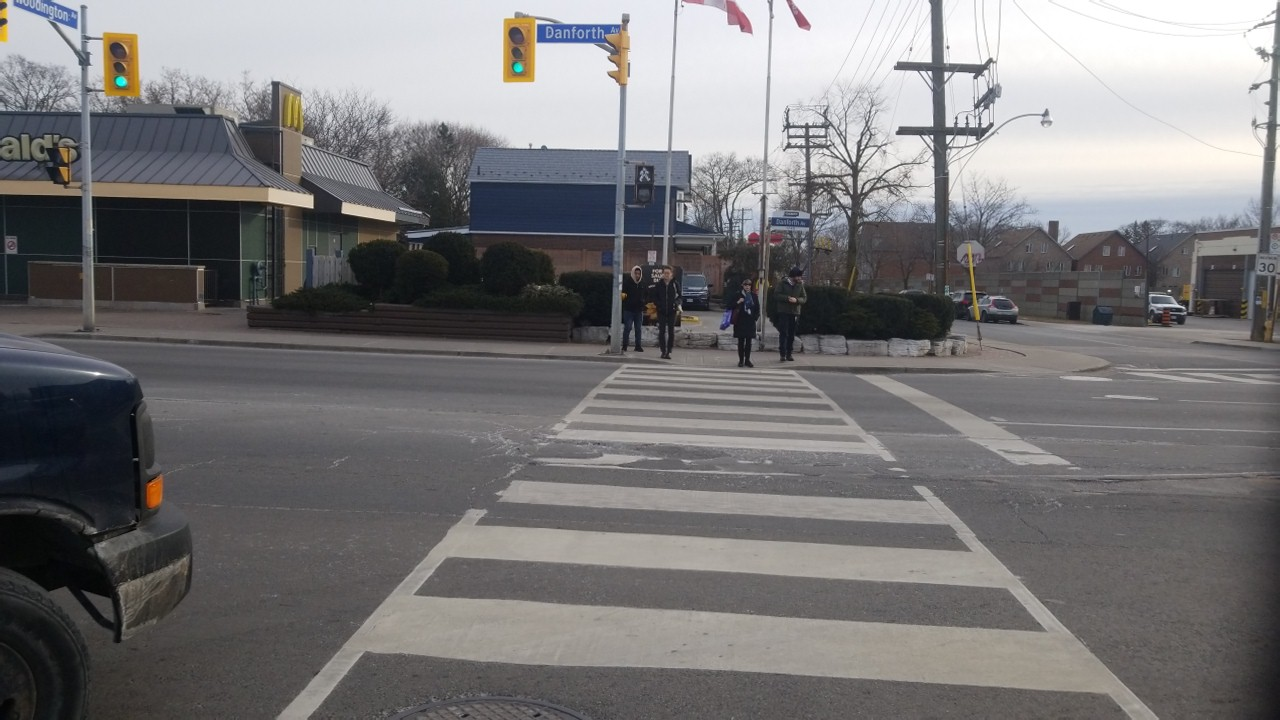light: (629, 161, 659, 206)
